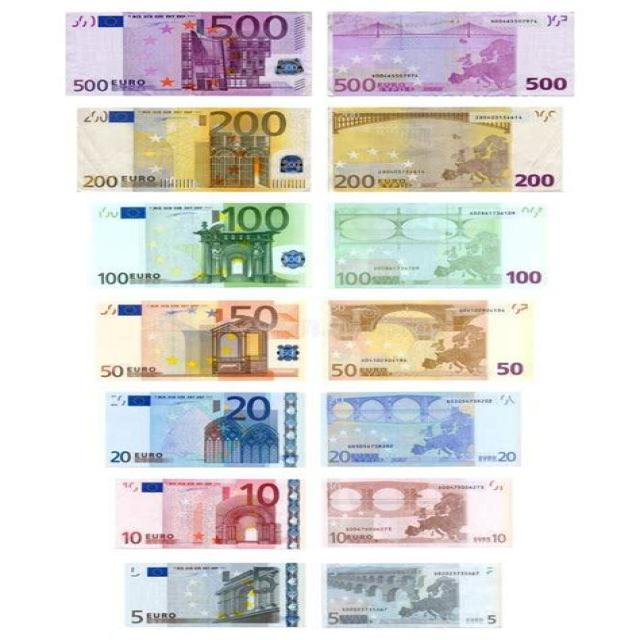banknote: (59, 100, 320, 199), (316, 10, 589, 104), (320, 106, 580, 197), (61, 10, 316, 101), (323, 295, 574, 386), (324, 204, 586, 291), (66, 203, 316, 290), (72, 298, 309, 386), (88, 388, 314, 472), (89, 474, 309, 558), (317, 388, 544, 469), (318, 474, 539, 552), (312, 560, 510, 638), (104, 560, 311, 628), (203, 105, 289, 142), (203, 12, 293, 44), (220, 203, 300, 233), (224, 301, 284, 334), (220, 391, 274, 423), (235, 478, 287, 511), (329, 169, 381, 193), (523, 70, 570, 94), (504, 264, 550, 288), (329, 73, 378, 94), (490, 356, 529, 380), (75, 170, 119, 191), (489, 391, 532, 411), (74, 74, 112, 96), (503, 172, 561, 186), (112, 525, 144, 549), (331, 270, 376, 287), (326, 358, 360, 380), (94, 267, 128, 289), (542, 10, 571, 35), (125, 599, 152, 625), (111, 477, 141, 497), (96, 361, 126, 381), (74, 107, 108, 123), (323, 446, 353, 464), (505, 300, 534, 318), (468, 612, 504, 626), (102, 392, 130, 410), (322, 527, 348, 546), (107, 447, 134, 465), (68, 12, 95, 30), (493, 448, 519, 466), (488, 530, 510, 548), (478, 566, 501, 579), (324, 610, 342, 626)
